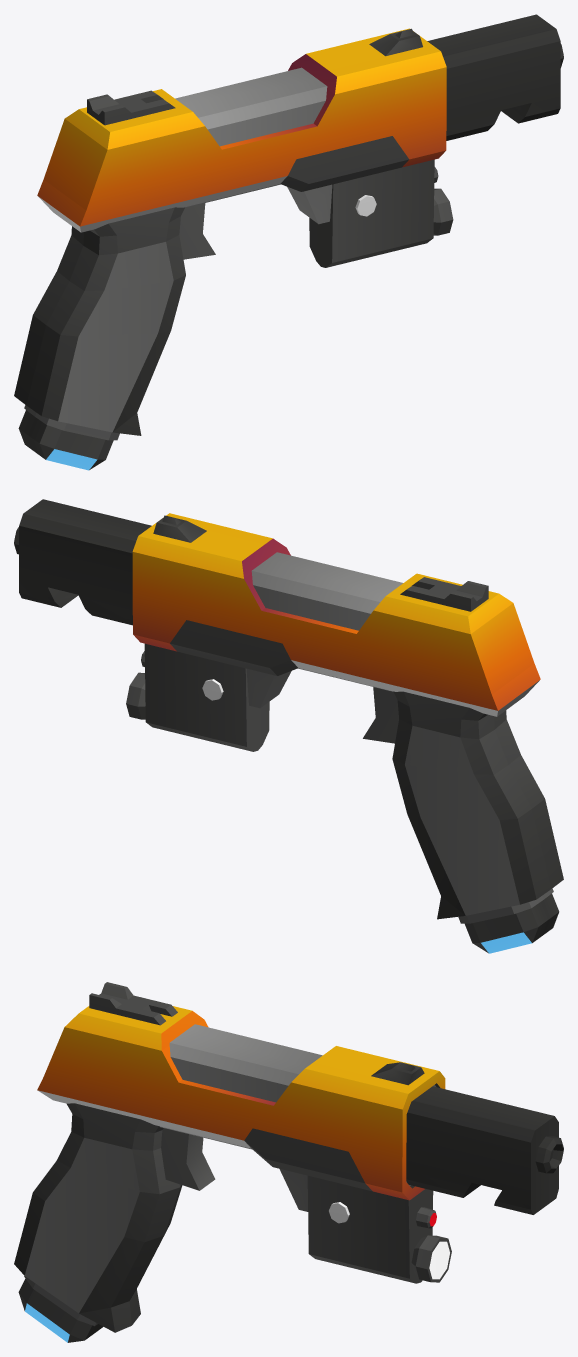
File: Pistol_mesh.fbx
3 views of the same model, one above another, from view 1: azimuth 30°, elevation 25°; view 2: azimuth 150°, elevation 25°; view 3: azimuth 330°, elevation 25° (orthographic).
Parts seen in each view (by area): view 1: PistolSlide_mesh, Pistol_mesh, Pistol_Silencer_mesh, SmallLaserCombo_mesh, Mag_Pistol_mesh, TriggerC_mesh1; view 2: PistolSlide_mesh, Pistol_mesh, Pistol_Silencer_mesh, SmallLaserCombo_mesh, Mag_Pistol_mesh, TriggerC_mesh1; view 3: PistolSlide_mesh, Pistol_mesh, Pistol_Silencer_mesh, SmallLaserCombo_mesh, TriggerC_mesh1, Mag_Pistol_mesh.
Boxes of the visible parts, x1,y1,x2,y2 form: PistolSlide_mesh: [37, 28, 446, 232]; Pistol_mesh: [14, 67, 327, 440]; Pistol_Silencer_mesh: [427, 14, 563, 140]; SmallLaserCombo_mesh: [287, 159, 453, 267]; Mag_Pistol_mesh: [18, 410, 113, 470]; TriggerC_mesh1: [179, 203, 215, 259]; PistolSlide_mesh: [132, 513, 540, 716]; Pistol_mesh: [251, 552, 563, 923]; Pistol_Silencer_mesh: [14, 499, 151, 625]; SmallLaserCombo_mesh: [126, 643, 291, 751]; Mag_Pistol_mesh: [465, 893, 559, 953]; TriggerC_mesh1: [363, 687, 398, 743]; PistolSlide_mesh: [37, 982, 445, 1200]; Pistol_mesh: [14, 1024, 435, 1332]; Pistol_Silencer_mesh: [406, 1086, 563, 1214]; SmallLaserCombo_mesh: [279, 1168, 451, 1283]; TriggerC_mesh1: [161, 1128, 215, 1190]; Mag_Pistol_mesh: [18, 1279, 103, 1342].
Size of the model in its own units: 25.68 by 16.24 by 3.59.
2 materials, 1 textured.
